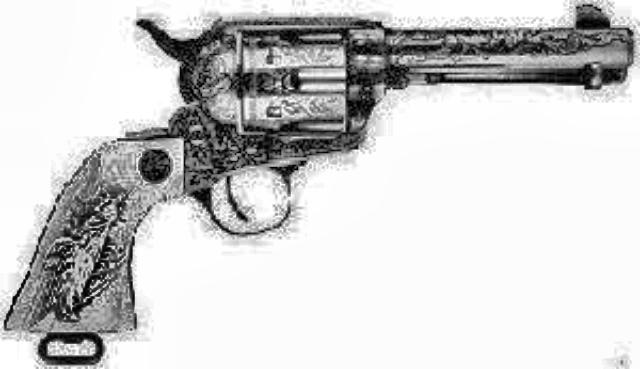pistol: (2, 0, 630, 334)
